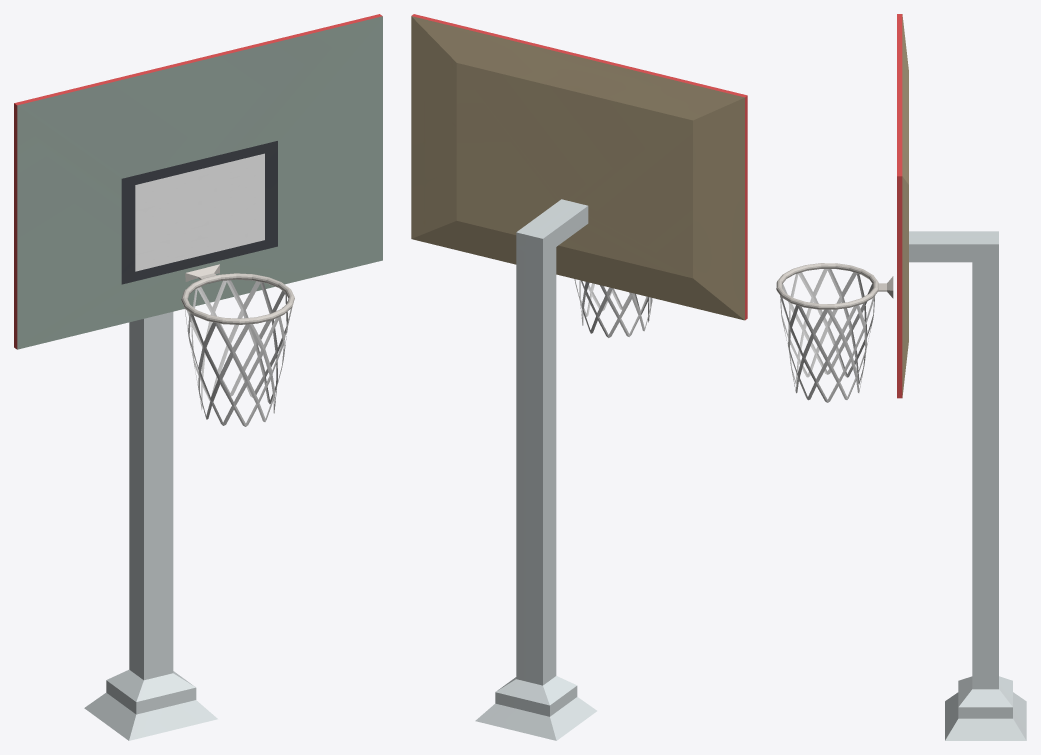
File: basketbolpotasii.fbx
3 renders of one model, left to right at view 1: azimuth 30°, elevation 25°; view 2: azimuth 150°, elevation 25°; view 3: azimuth 270°, elevation 25°, orthographic. The views are drawn at different scales.
Parts seen in each view (by area): view 1: Cube, Torus.001, Torus; view 2: Cube, Torus.001; view 3: Cube, Torus.001, Torus.
Boxes of the visible parts, x1,y1,x2,y2 form: Cube: [14, 14, 382, 740]; Torus.001: [184, 280, 292, 426]; Torus: [181, 264, 294, 324]; Cube: [411, 14, 747, 740]; Torus.001: [574, 279, 652, 337]; Cube: [897, 14, 1026, 740]; Torus.001: [780, 269, 875, 402]; Torus: [776, 263, 893, 309].
Bounding box in the file's own units: 787 × 1416 × 513.
